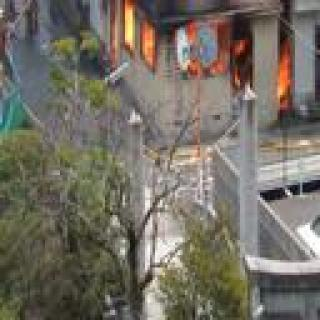fire: (98, 0, 307, 130)
